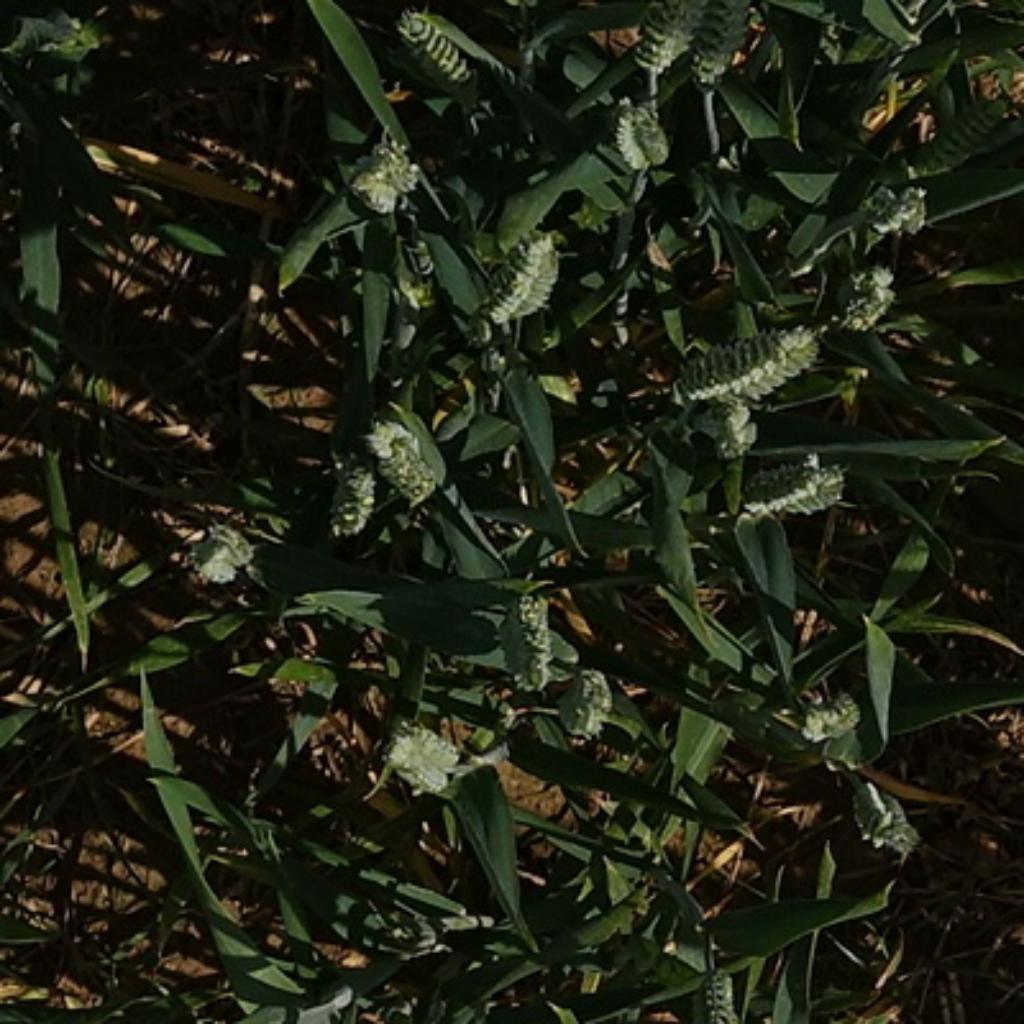0-0: (666, 323, 822, 402), (912, 95, 1013, 187), (486, 222, 568, 327), (732, 450, 852, 519), (335, 128, 424, 215), (360, 421, 439, 506), (846, 775, 925, 857), (684, 3, 764, 77), (505, 590, 564, 690), (381, 721, 462, 793), (634, 2, 704, 84), (401, 10, 476, 81), (862, 174, 936, 243), (607, 97, 675, 171), (176, 524, 252, 588), (797, 678, 862, 752), (325, 450, 380, 537), (829, 264, 901, 330), (710, 401, 767, 460), (568, 669, 617, 737), (693, 968, 745, 1024)
